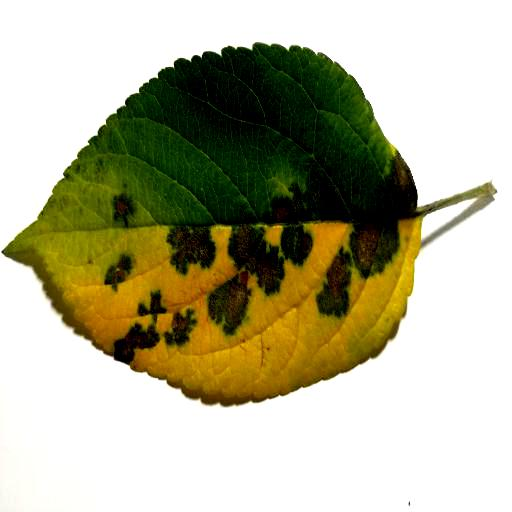Brown_Spot: (86, 180, 416, 350)
